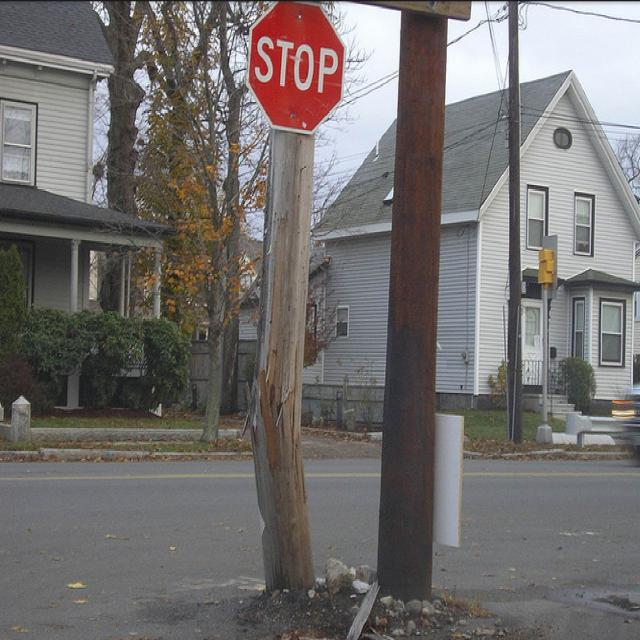STOP: (241, 0, 341, 127)
